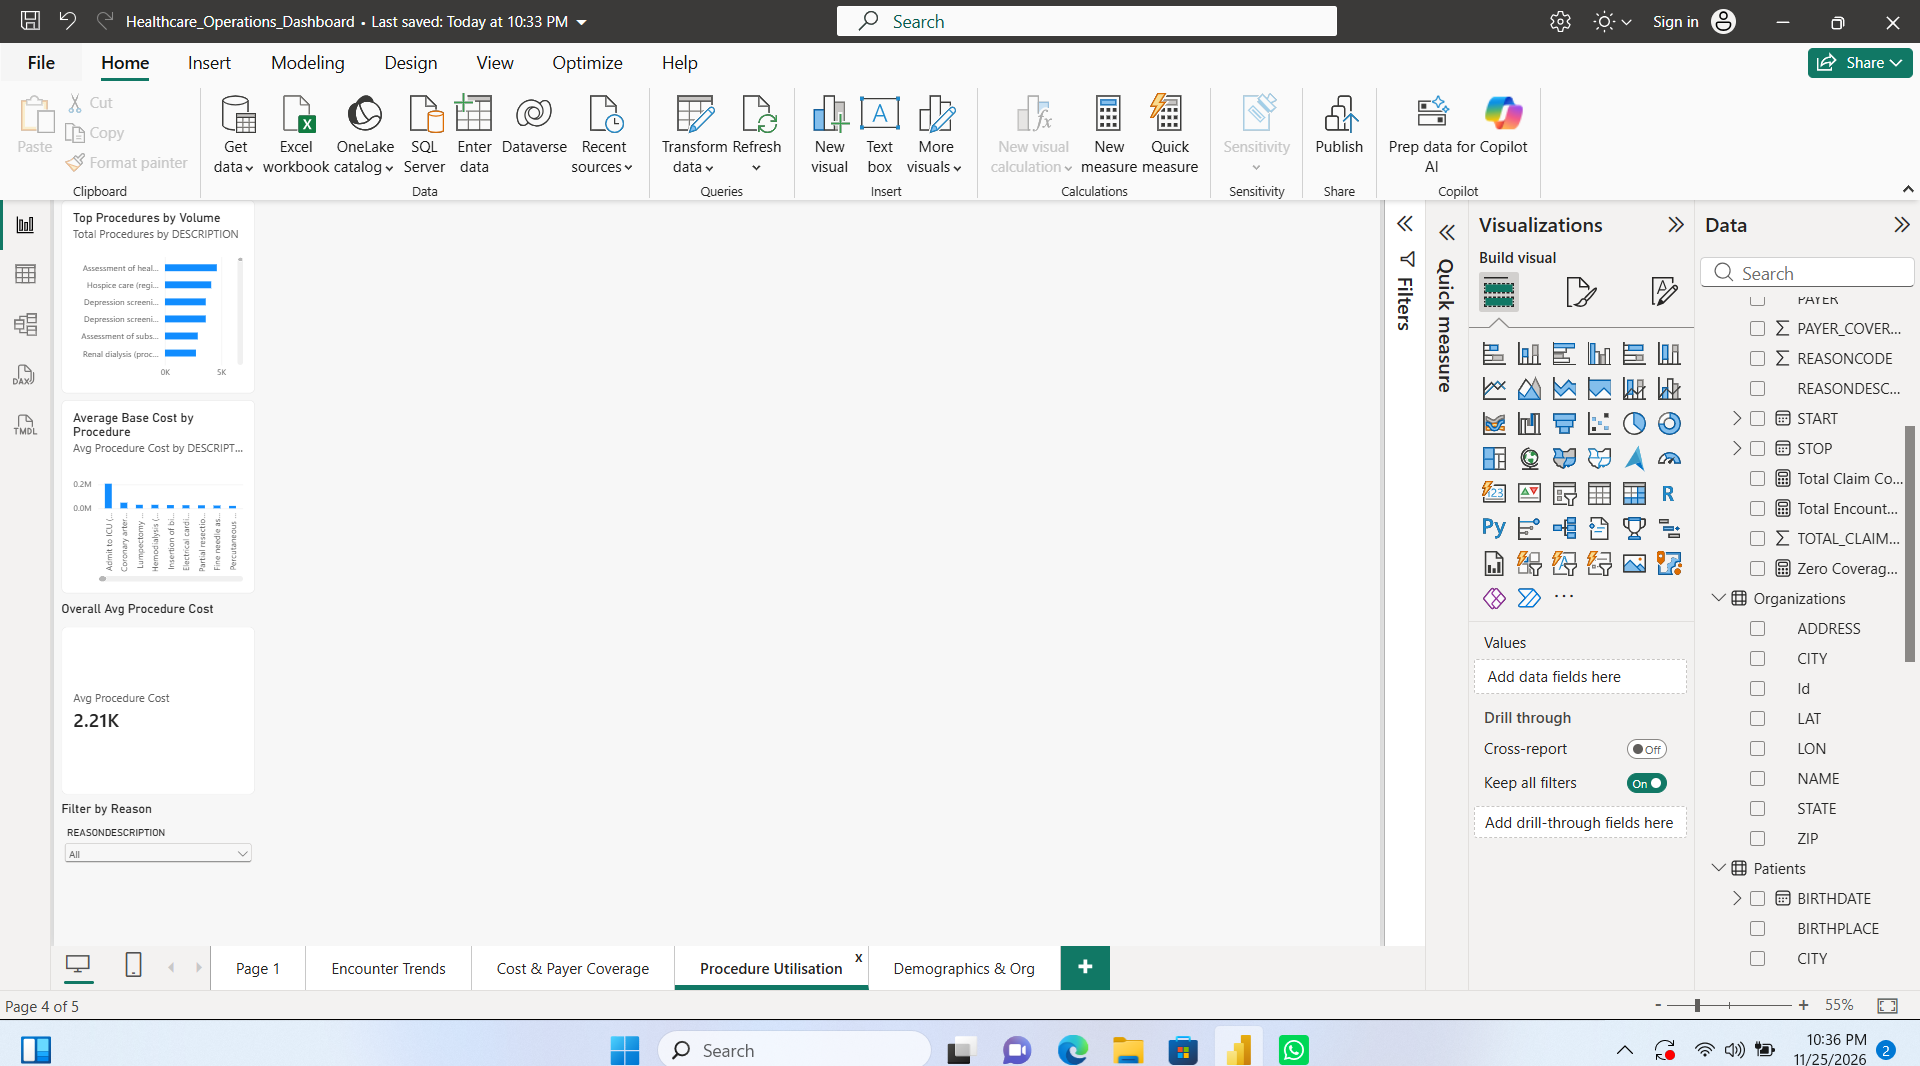

This screenshot's page, from the dashboard's own definition file:
{"tool":"powerbi","page":{"name":"Procedure Utilisation","canvas":[1920,1080],"ordinal":3},"visuals":[{"type":"clusteredBarChart","title":"Top Procedures by Volume","fields":{"Category":["Procedures.DESCRIPTION"],"Y":["Procedures.Total Procedures"]},"box":[10,0,280,280],"z":0},{"type":"clusteredColumnChart","title":"Average Base Cost by Procedure","fields":{"Category":["Procedures.DESCRIPTION"],"Y":["Procedures.Avg Procedure Cost"]},"box":[10,290,280,280],"z":1},{"type":"cardVisual","title":"Overall Avg Procedure Cost","fields":{"Data":["Procedures.Avg Procedure Cost"]},"box":[10,580,280,280],"z":2},{"type":"slicer","title":"Filter by Reason","fields":{"Values":["Procedures.REASONDESCRIPTION"]},"box":[10,870,280,210],"z":3}]}

Visuals, with their boxes on the page's 1920x1080 design canvas (x1, y1, x2, y2). These are canvas units, not pixel positions in the 1920x1066 screenshot, which may show the page scaled, cropped or inside an application window:
"Top Procedures by Volume" clusteredBarChart: 10 0 290 280
"Average Base Cost by Procedure" clusteredColumnChart: 10 290 290 570
"Overall Avg Procedure Cost" cardVisual: 10 580 290 860
"Filter by Reason" slicer: 10 870 290 1080
